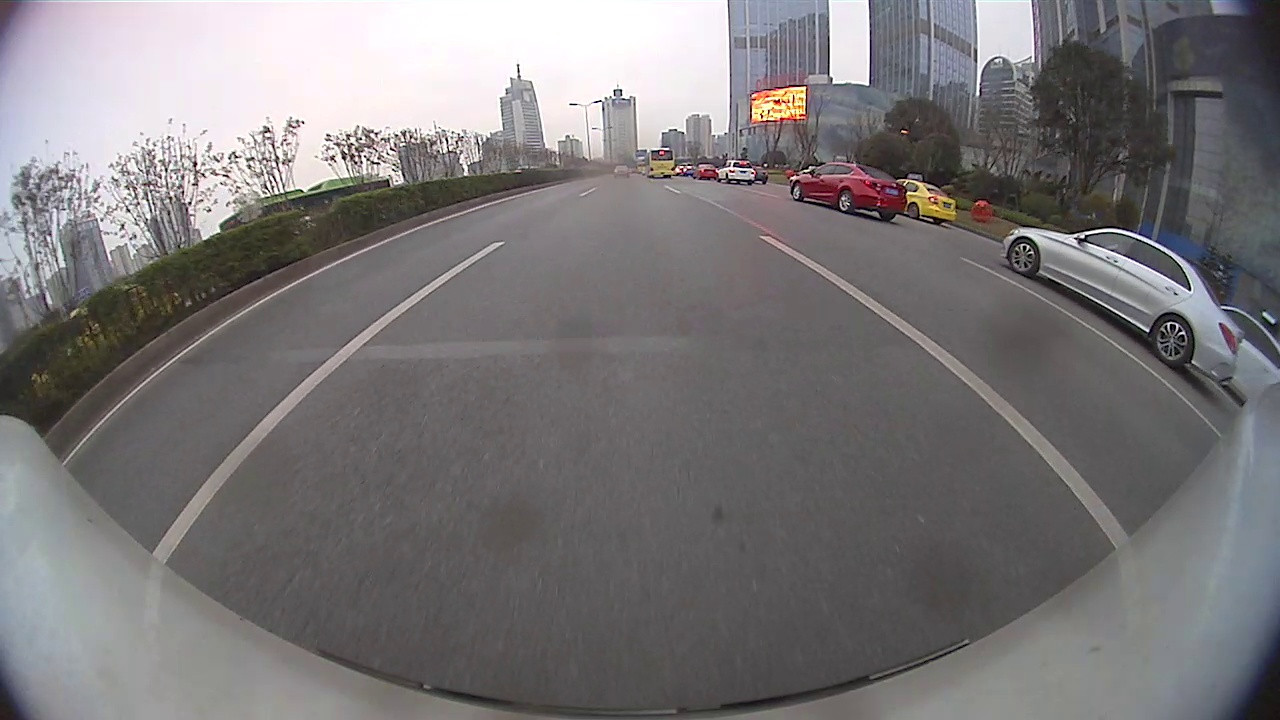bus: (216, 171, 392, 235), (642, 146, 678, 180)
car: (995, 222, 1250, 391), (788, 159, 910, 224), (1217, 300, 1279, 416), (893, 169, 960, 227), (716, 158, 758, 186), (691, 161, 720, 181), (751, 164, 769, 184), (612, 163, 631, 181)
front: (1007, 239, 1038, 276), (791, 184, 803, 202)
rear: (1151, 315, 1195, 366), (837, 190, 852, 214), (906, 205, 920, 219)
